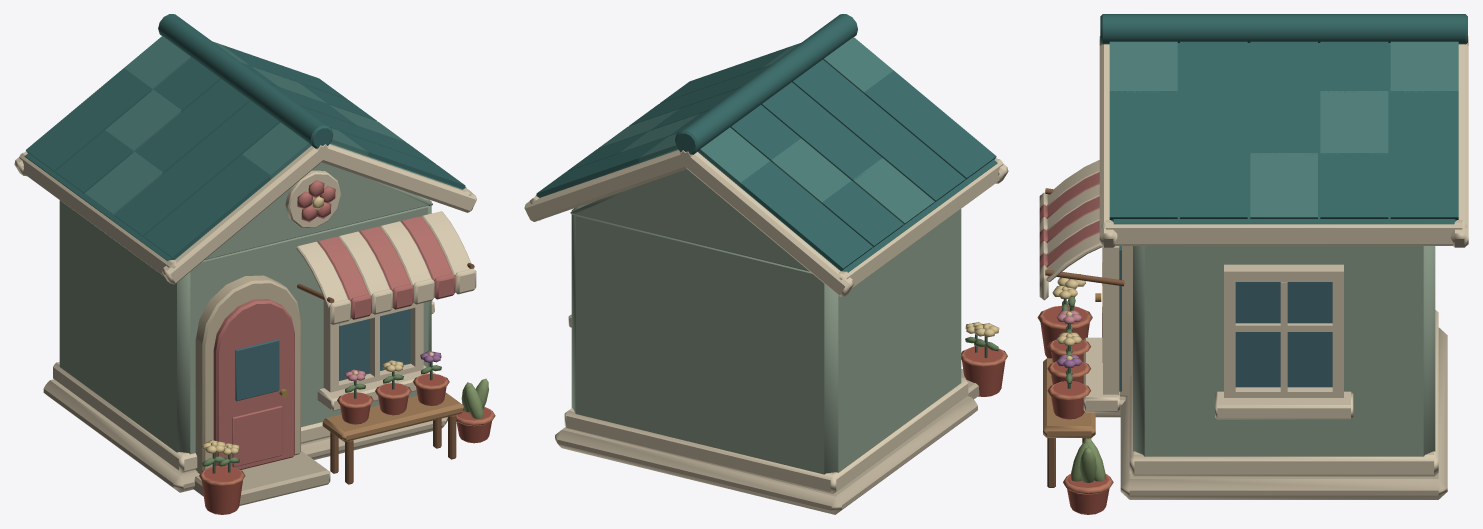
The model's file is florist_level_2.glb.
The picture shows the model from 3 angles, left to right: view 1: azimuth 30°, elevation 25°; view 2: azimuth 150°, elevation 25°; view 3: azimuth 270°, elevation 25°; orthographic projection. The views are drawn at different scales.
Parts seen in each view (by area): view 1: florist_level_2_runtime; view 2: florist_level_2_runtime; view 3: florist_level_2_runtime.
Boxes of the visible parts, x1=… form: florist_level_2_runtime: x1=14, y1=14, x2=495, y2=514; florist_level_2_runtime: x1=524, y1=14, x2=1008, y2=514; florist_level_2_runtime: x1=1037, y1=14, x2=1468, y2=514.
Size of the model in its own units: 3.24 by 3.33 by 3.18.
